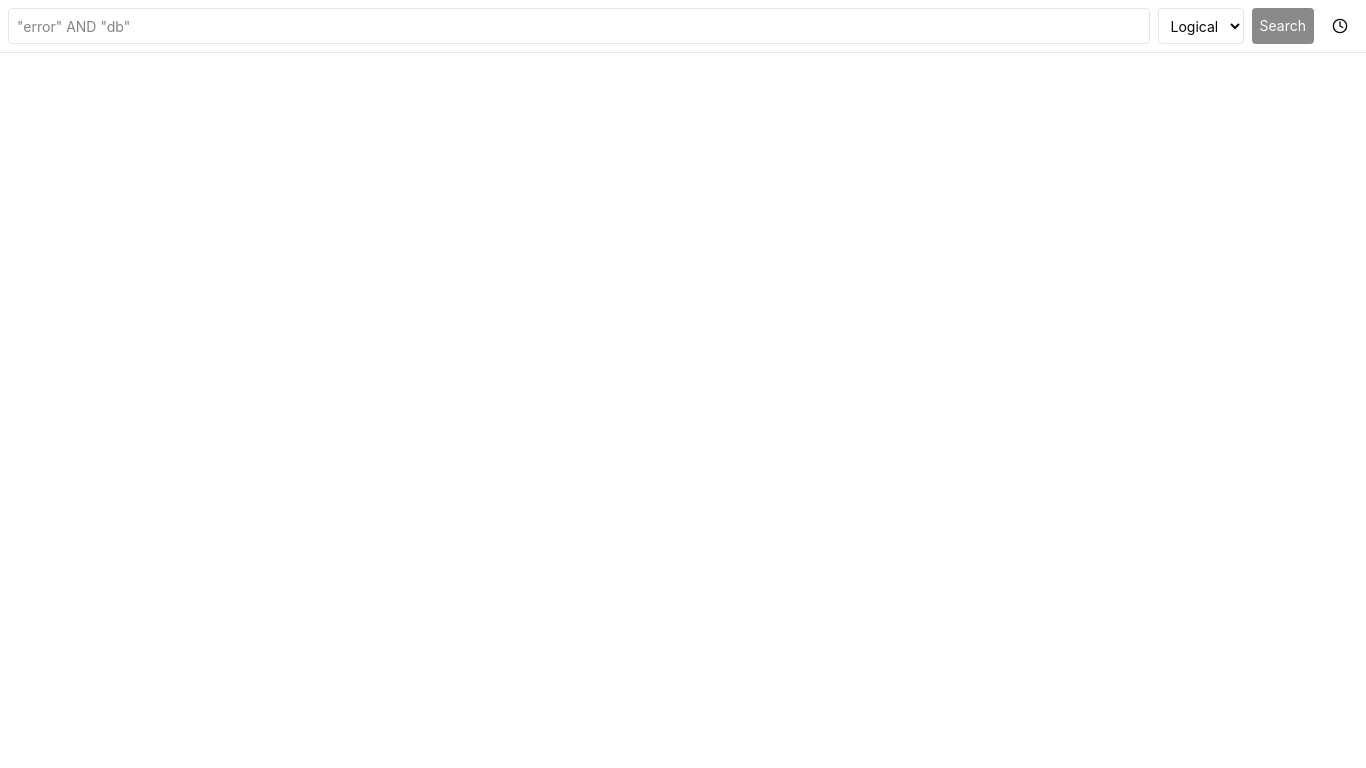
SearchBar › search history › renders a clock icon button that opens the search history overlay (FR-011)
Click the button named "search history" at (1340, 26), box [1322,8,1358,44]
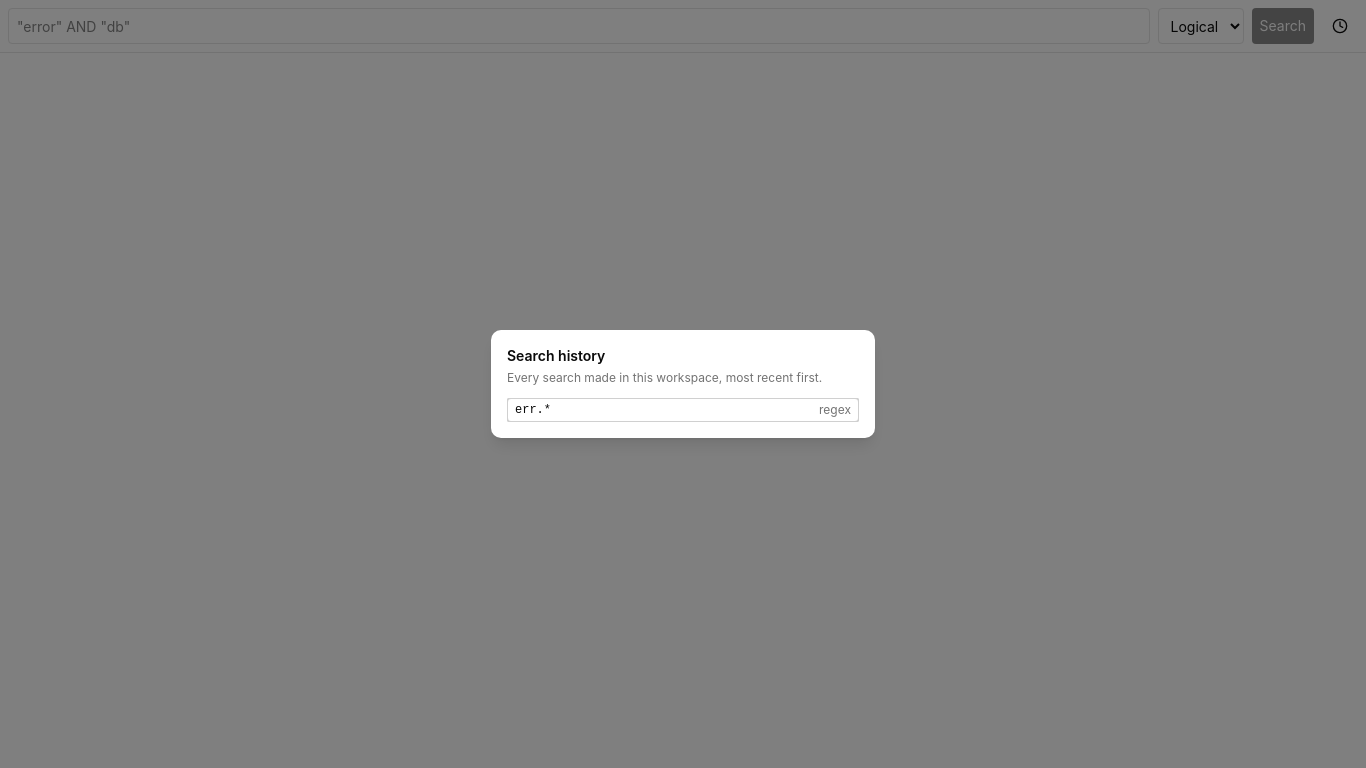
Now the option "err.* regex" is shown, box [507,398,859,422]
